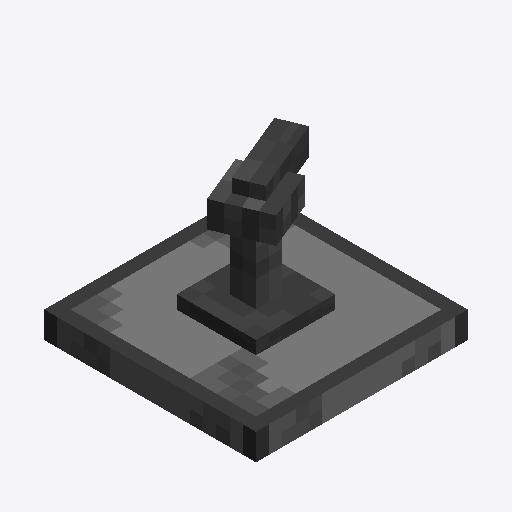
A Minecraft block model of 6 cuboids, rendered isometrically (azimuth 45°, elevation 35.3°) with the resource pack's own textures.
Parts seen in each view (by area): plateau, porteur, capuchon, pilier, tube, bouchon.
Part boxes in pixels (left/top/right/bottom): plateau: left=44, top=213, right=467, bottom=461; porteur: left=177, top=264, right=334, bottom=354; capuchon: left=207, top=159, right=304, bottom=245; pilier: left=230, top=235, right=281, bottom=308; tube: left=246, top=118, right=308, bottom=180; bouchon: left=232, top=158, right=279, bottom=200.
Size of the model in its own units: 16 by 11 by 16.